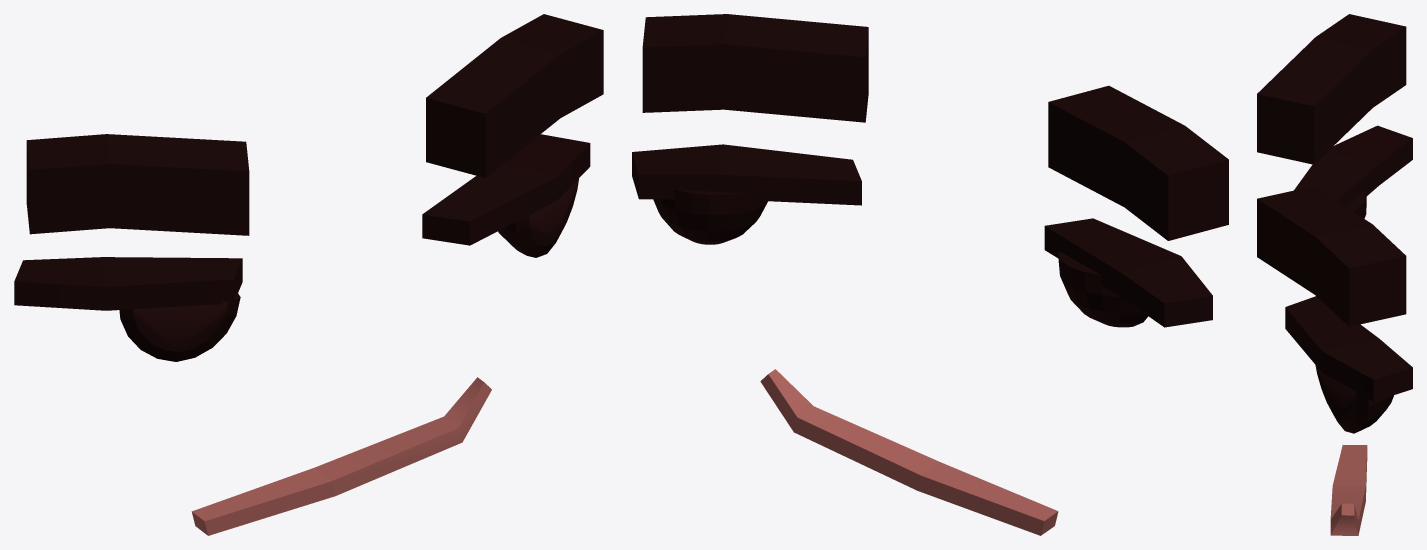
3 renders of one model, left to right at view 1: azimuth 30°, elevation 25°; view 2: azimuth 150°, elevation 25°; view 3: azimuth 270°, elevation 25°, orthographic. The views are drawn at different scales.
Visible parts, largest first — view 1: brows4, eyelid4, mouth4, eye right4; view 2: brows4, eyelid4, mouth4, eye right4; view 3: brows4, eyelid4, mouth4, eye right4.
Part boxes in pixels (box(x1,y1,x2,y2)): brows4: box(26, 14, 603, 235); eyelid4: box(14, 134, 590, 310); mouth4: box(191, 377, 491, 535); eye right4: box(119, 174, 579, 361); brows4: box(642, 14, 1228, 240); eyelid4: box(632, 144, 1212, 327); mouth4: box(760, 369, 1058, 535); eye right4: box(653, 189, 1148, 327); brows4: box(1257, 14, 1406, 326); eyelid4: box(1285, 125, 1412, 401); mouth4: box(1330, 445, 1367, 535); eye right4: box(1315, 190, 1393, 433).
Bounding box in the file's own units: 66.99 × 45.81 × 17.35.
